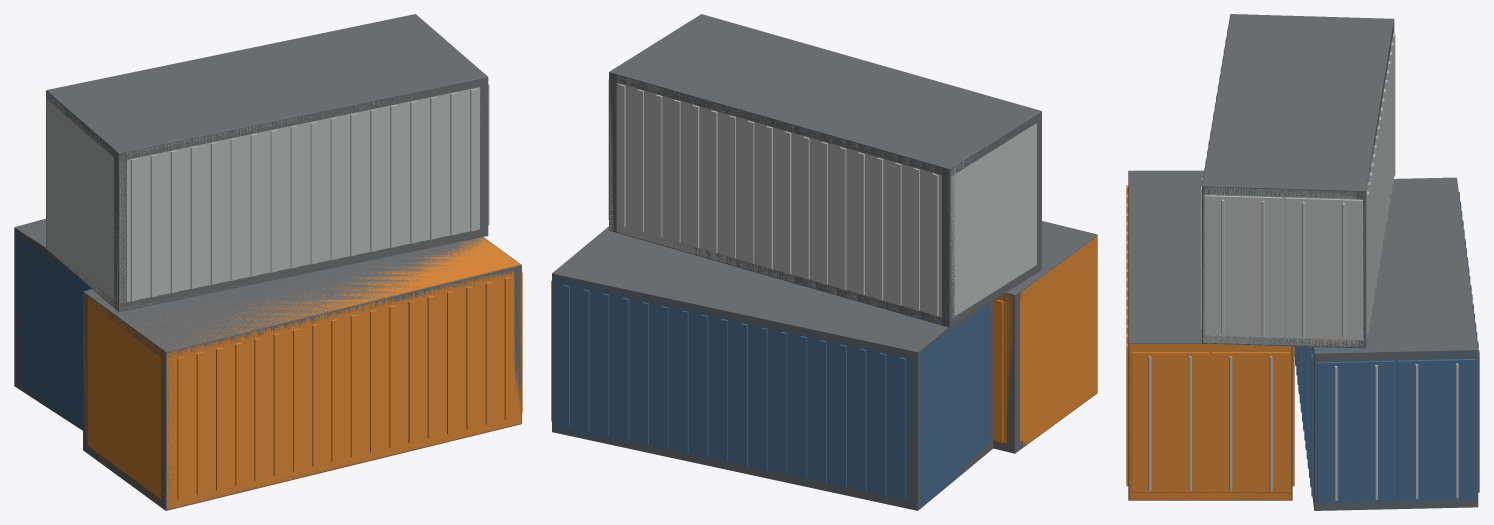
File: cargo_containers.glb
3 views of the same model, side by side, from view 1: azimuth 30°, elevation 25°; view 2: azimuth 150°, elevation 25°; view 3: azimuth 270°, elevation 25° (orthographic).
Visible parts, largest first — view 1: cargo_containers; view 2: cargo_containers; view 3: cargo_containers.
Boxes of the visible parts, bbox=[...] form: cargo_containers: bbox=[14, 14, 522, 510]; cargo_containers: bbox=[551, 14, 1097, 510]; cargo_containers: bbox=[1126, 14, 1479, 510].
Bounding box in the file's own units: 6.49 × 5.19 × 5.25.
